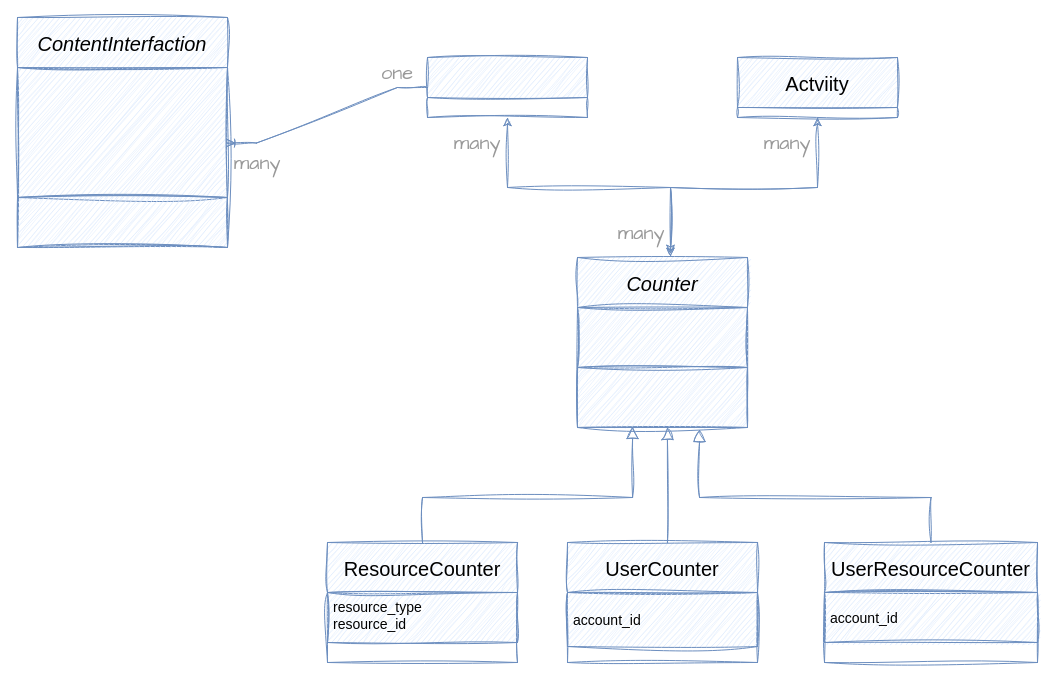
Some shapes in this 1055 by 680 pixel diagram are drawn without their labels. The centre of each missing label's shape, as x and y in pixels:
account_id resource_type resource_id action interact_info status: (x=122, y=132)
Content: (x=507, y=87)
count_type count: (x=662, y=337)
incr() decr(): (x=662, y=397)
interact(): (x=122, y=222)
